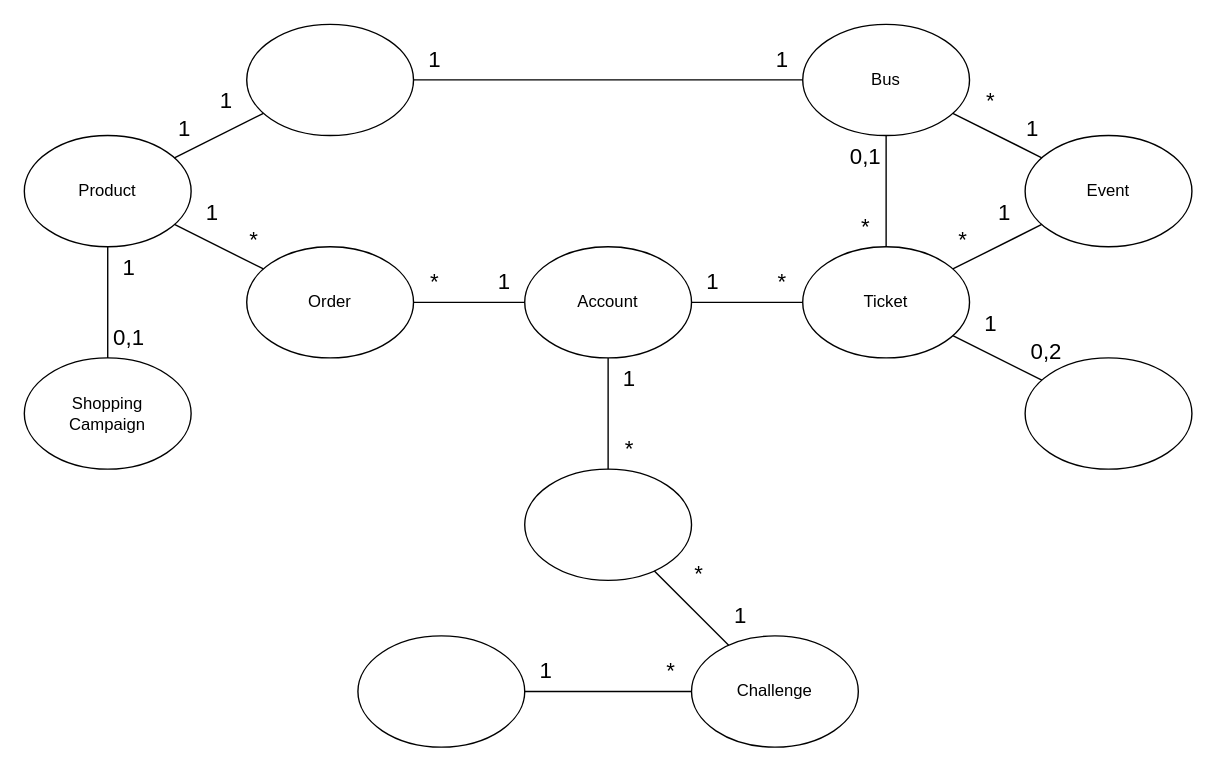
Some shapes in this 1216 by 771 pixel diagram are drawn without their labels. Each missing label, with the centre of its shape:
Challenge Campaign: the point at 441,691
Marketplace Offer: the point at 1108,413
Proof: the point at 607,524
Stock: the point at 329,79
